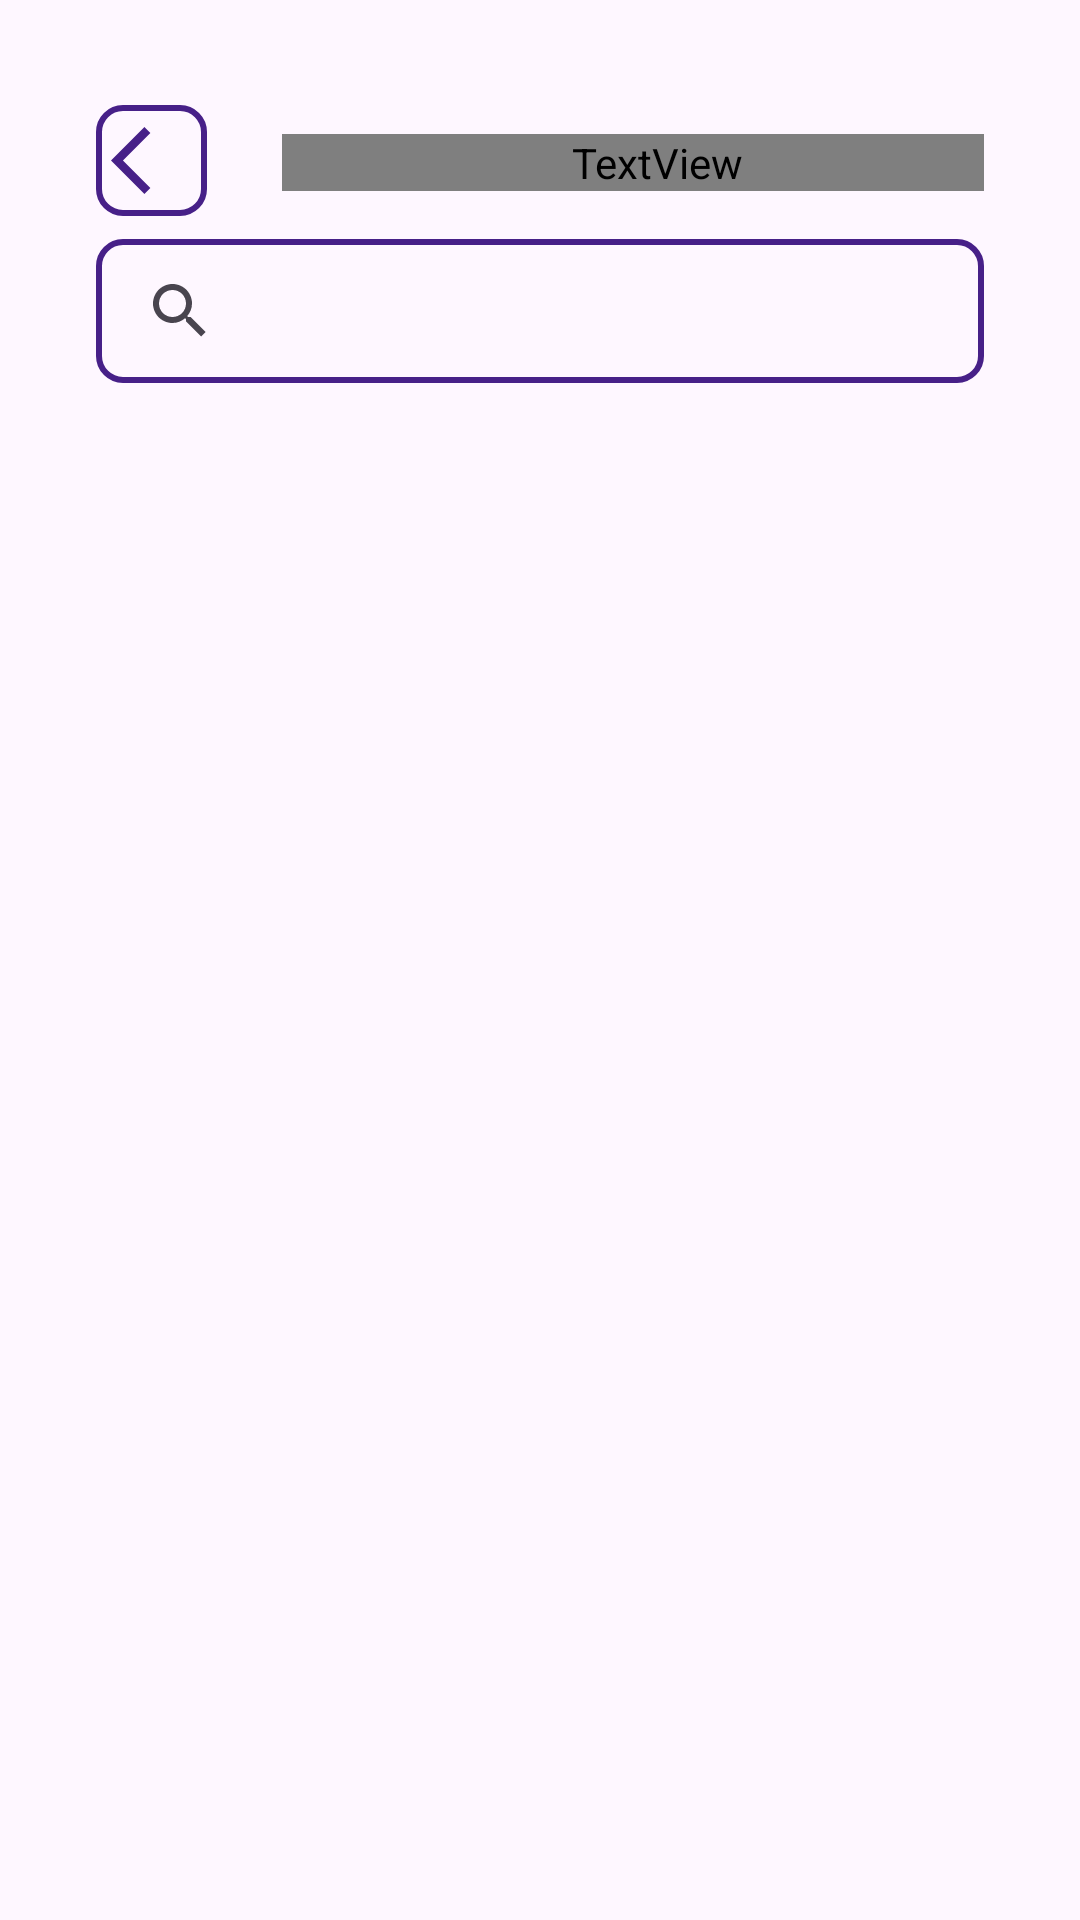

Locate icon controls on the screen. Image size 1080 × 1920, boxes as (x1, y1, x2, y2).
back: (96, 105, 207, 216)
